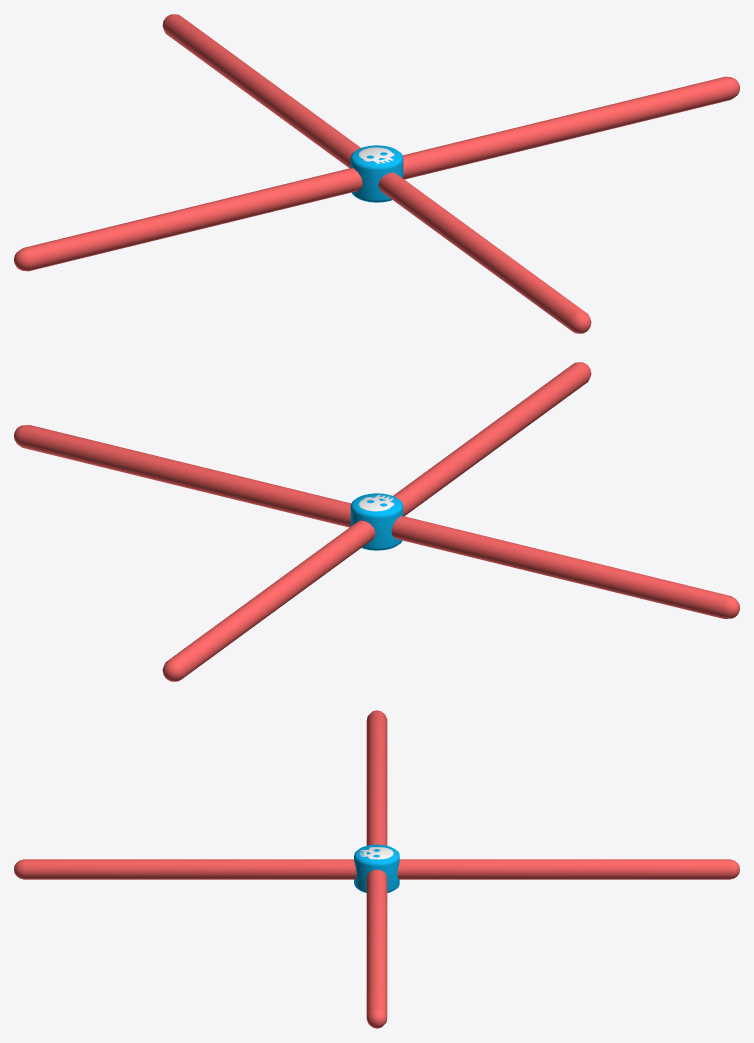
Rendered from stick_4_3.FBX.
The picture shows the model from 3 angles, top to bottom: view 1: azimuth 30°, elevation 25°; view 2: azimuth 150°, elevation 25°; view 3: azimuth 270°, elevation 25°; orthographic projection. The views are drawn at different scales.
Visible parts, largest first — view 1: stick_4_3; view 2: stick_4_3; view 3: stick_4_3.
Part boxes in pixels (x1,y1,x2,y2): stick_4_3: [14, 14, 739, 333]; stick_4_3: [14, 362, 739, 681]; stick_4_3: [14, 710, 739, 1028].
Bounding box in the file's own units: 23.63 × 1.16 × 23.63.
1 material, 1 textured.
